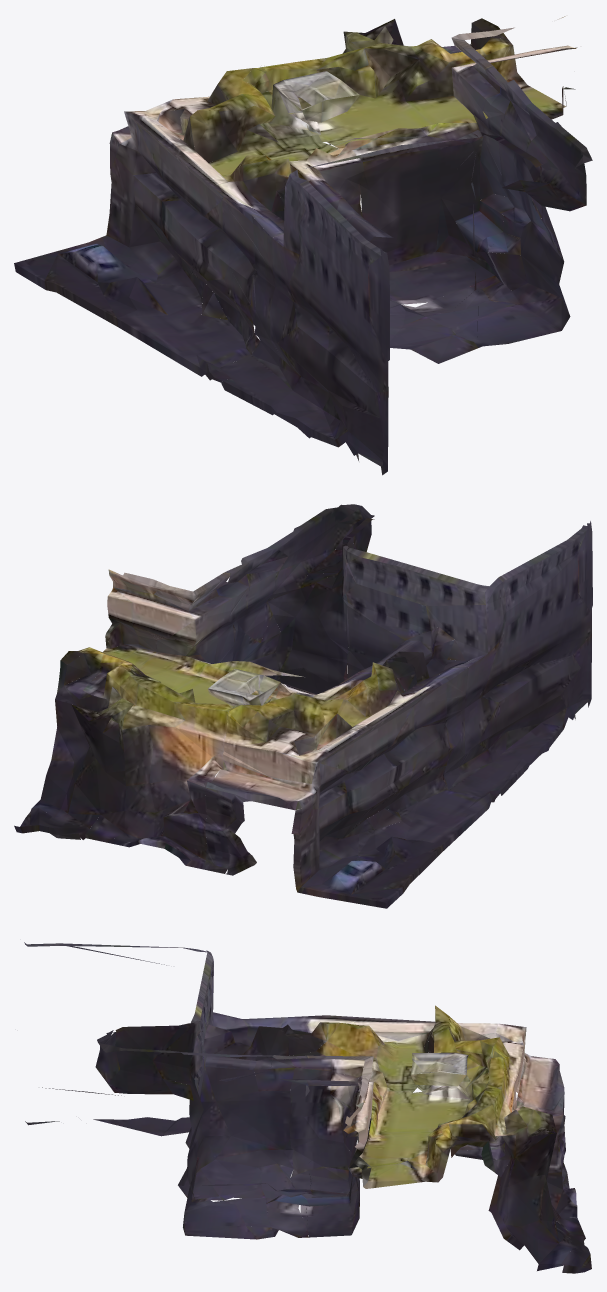
3 renders of one model, top to bottom at view 1: azimuth 30°, elevation 25°; view 2: azimuth 150°, elevation 25°; view 3: azimuth 270°, elevation 25°, orthographic. The views are drawn at different scales.
Parts seen in each view (by area): view 1: Mesh_0; view 2: Mesh_0; view 3: Mesh_0.
Part boxes in pixels (box(x1,y1,x2,y2)): Mesh_0: box(14, 16, 592, 475); Mesh_0: box(14, 504, 592, 908); Mesh_0: box(24, 942, 591, 1273).
Size of the model in its own units: 31 by 15.44 by 40.69.
Materials: 2 (2 with a texture image).
